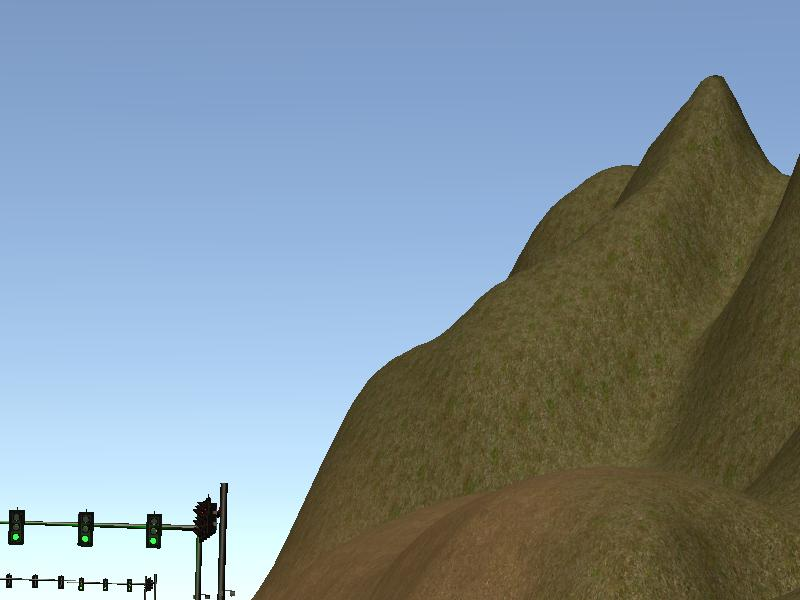Green: (8, 509, 24, 544), (78, 512, 93, 547), (146, 513, 161, 548)
